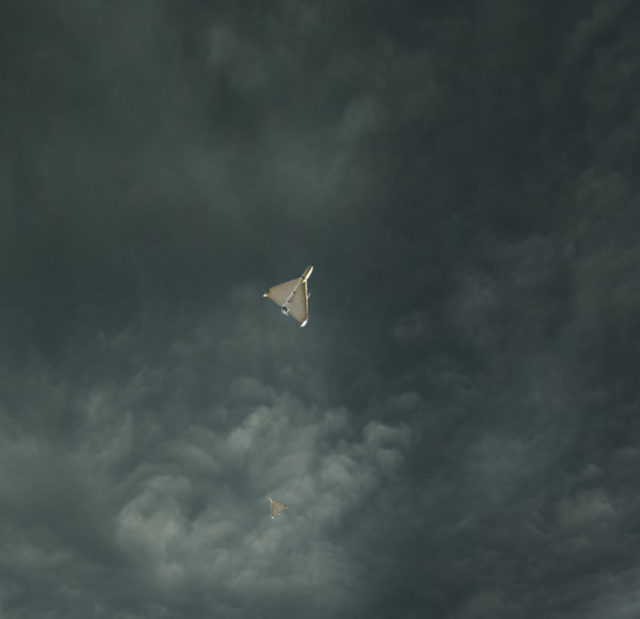military drone: (261, 264, 313, 327), (268, 496, 288, 519)
